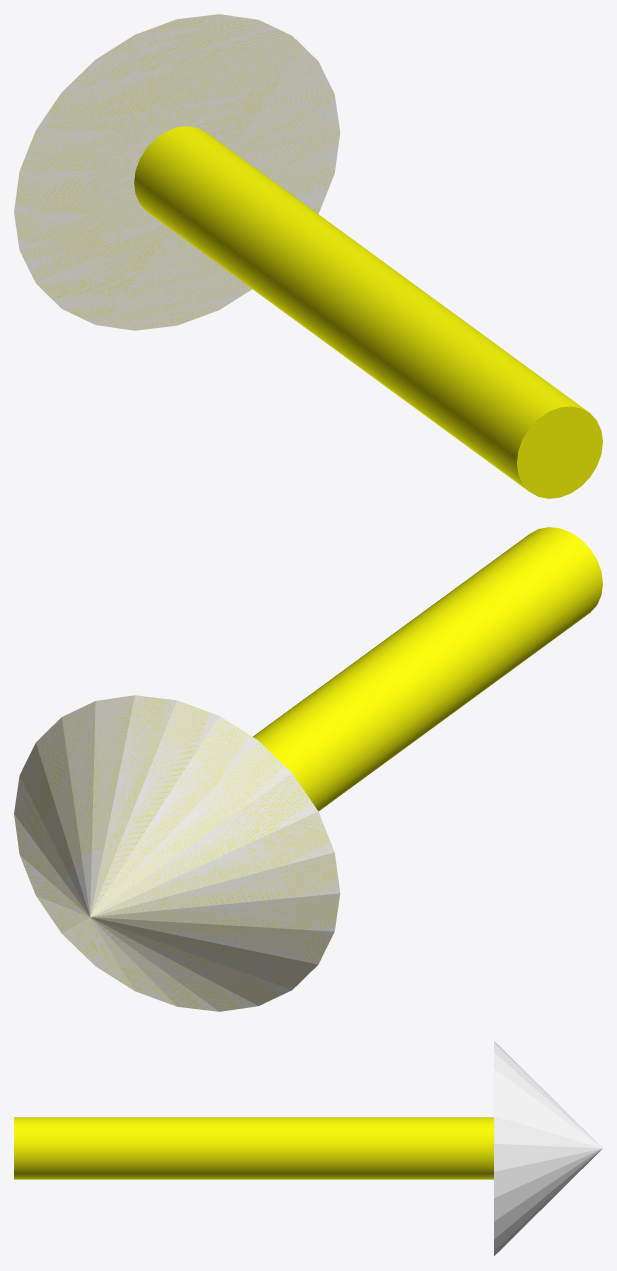
File: Yellow Arrow.dae
3 renders of one model, top to bottom at view 1: azimuth 30°, elevation 25°; view 2: azimuth 150°, elevation 25°; view 3: azimuth 270°, elevation 25°, orthographic. The views are drawn at different scales.
Visible parts, largest first — view 1: SketchUp (×2); view 2: SketchUp (×2); view 3: SketchUp (×2).
Boxes of the visible parts, <box> form: SketchUp (×2): <box>14,14,602,498</box>; SketchUp (×2): <box>14,527,602,1011</box>; SketchUp (×2): <box>14,1041,602,1255</box>.
Bounding box in the file's own units: 522 × 1302 × 469.
